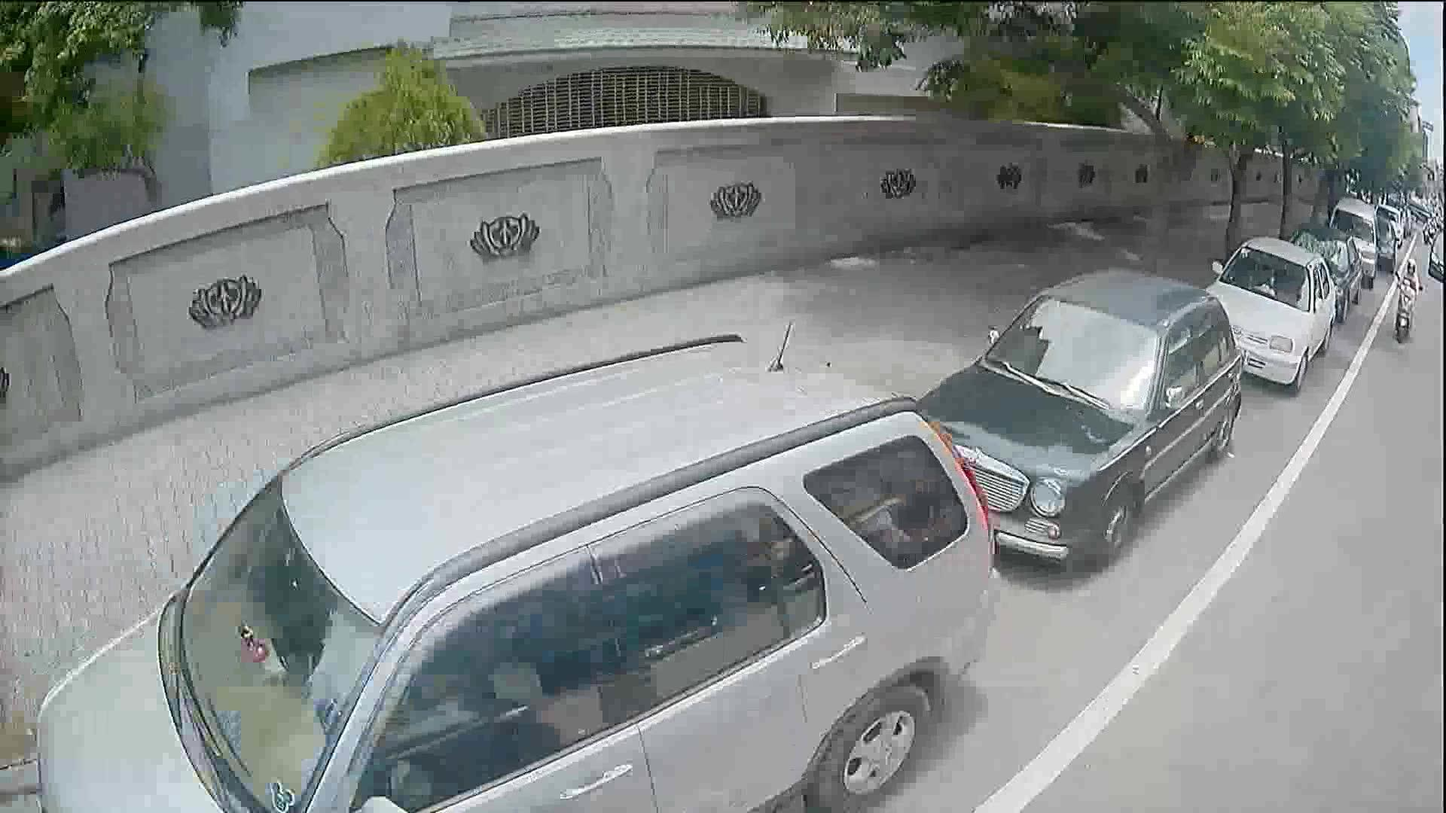person: (1396, 257, 1419, 291)
